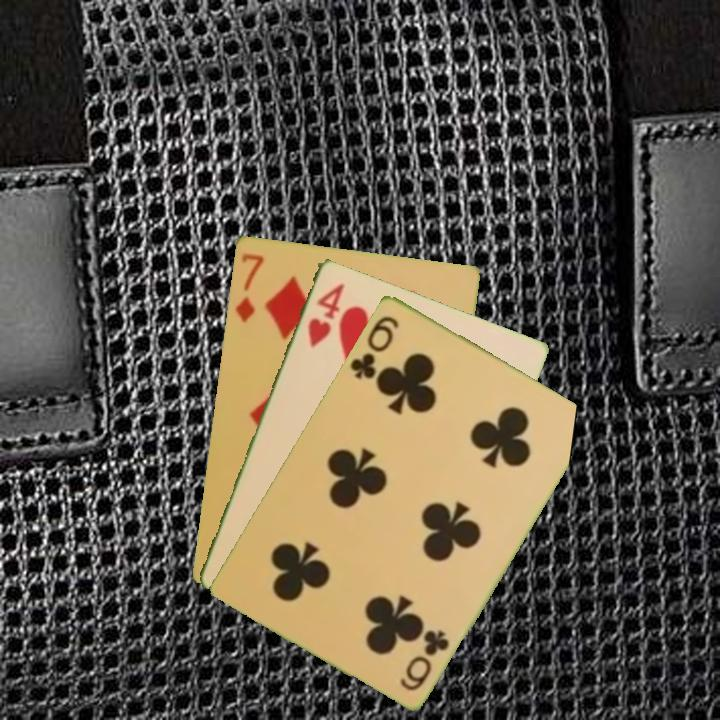4h: (304, 279, 347, 350)
6c: (346, 311, 402, 382), (396, 626, 453, 694)
7d: (231, 249, 266, 325)
